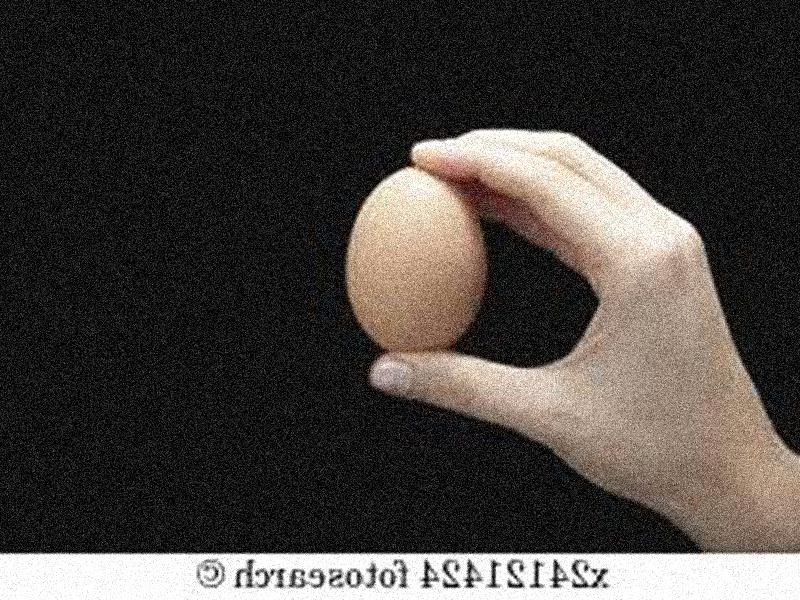Eggs: (347, 161, 485, 353)
